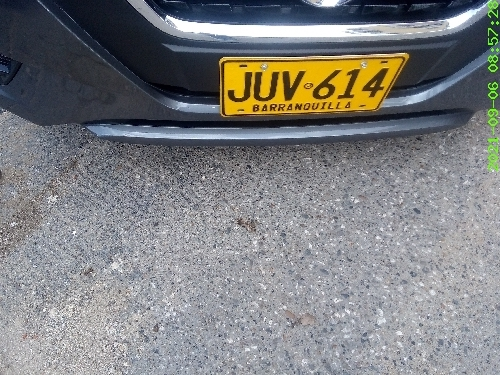number_plate: (219, 57, 404, 117)
